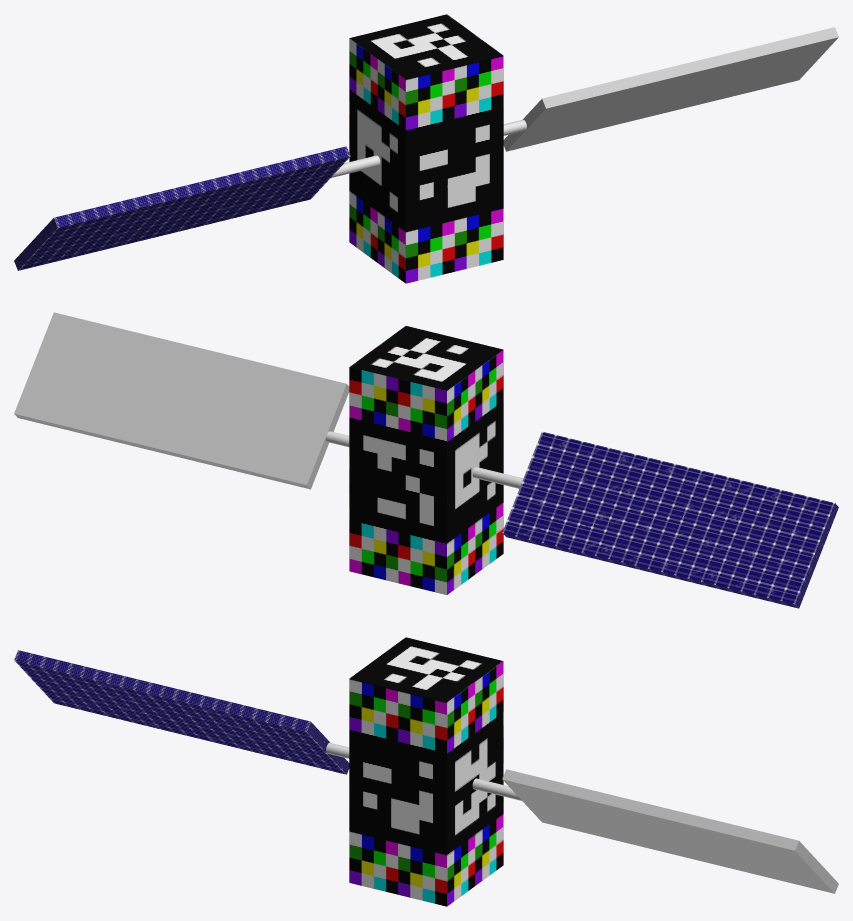
File: cubesat.dae
3 views of the same model, one above another, from view 1: azimuth 30°, elevation 25°; view 2: azimuth 150°, elevation 25°; view 3: azimuth 330°, elevation 25° (orthographic).
Parts seen in each view (by area): view 1: Body, Wing Right, Wing Left, Axis; view 2: Body, Wing Right, Wing Left, Axis; view 3: Body, Wing Left, Wing Right, Axis.
Part boxes in pixels (<box>): Body: <box>349,14,503,283</box>; Wing Right: <box>14,146,350,270</box>; Wing Left: <box>503,27,838,151</box>; Axis: <box>331,119,526,177</box>; Body: <box>349,326,503,594</box>; Wing Right: <box>502,431,838,608</box>; Wing Left: <box>14,312,349,489</box>; Axis: <box>326,431,523,488</box>; Body: <box>349,637,503,906</box>; Wing Left: <box>502,769,838,893</box>; Wing Right: <box>14,650,349,774</box>; Axis: <box>326,742,521,800</box>.
Bounding box in the file's own units: 0.8 × 0.1 × 0.2.
